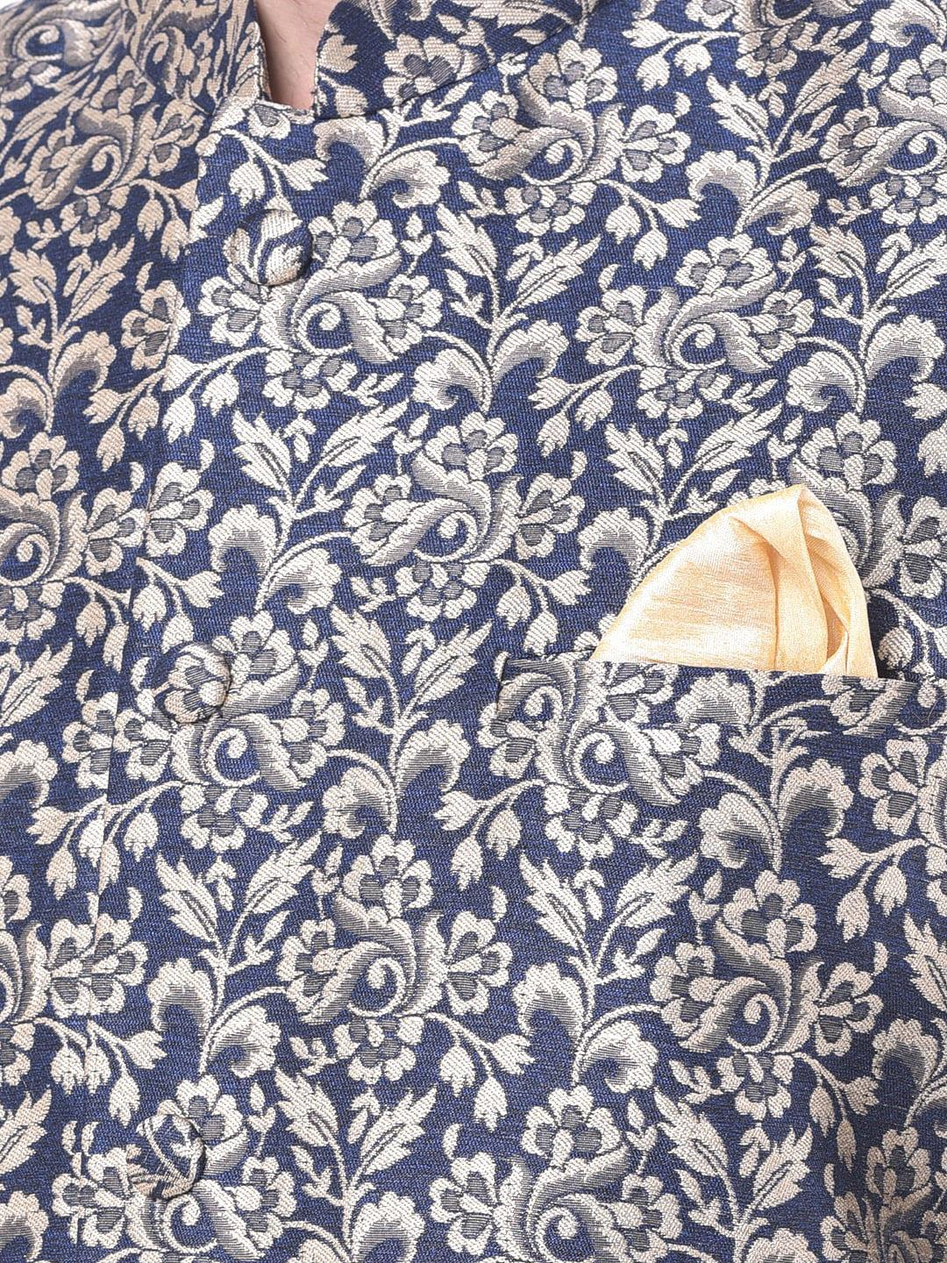Desgin sherwani: (2, 3, 945, 1261)
